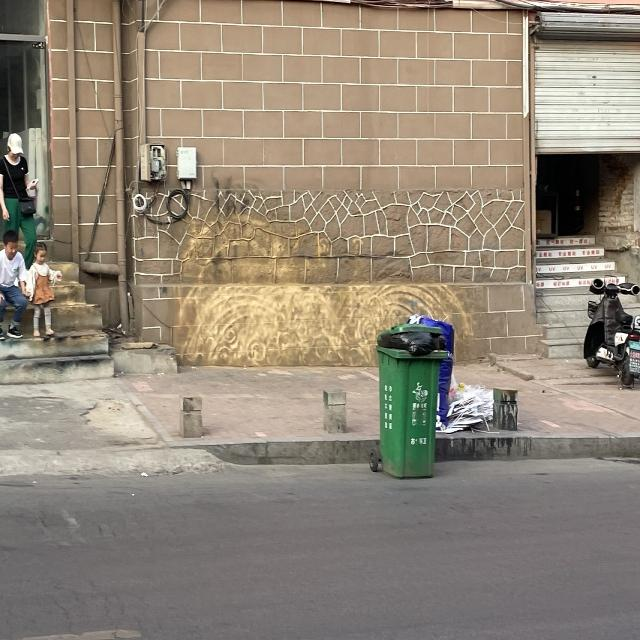garbage: (406, 314, 494, 433)
overflow: (375, 324, 449, 479)
